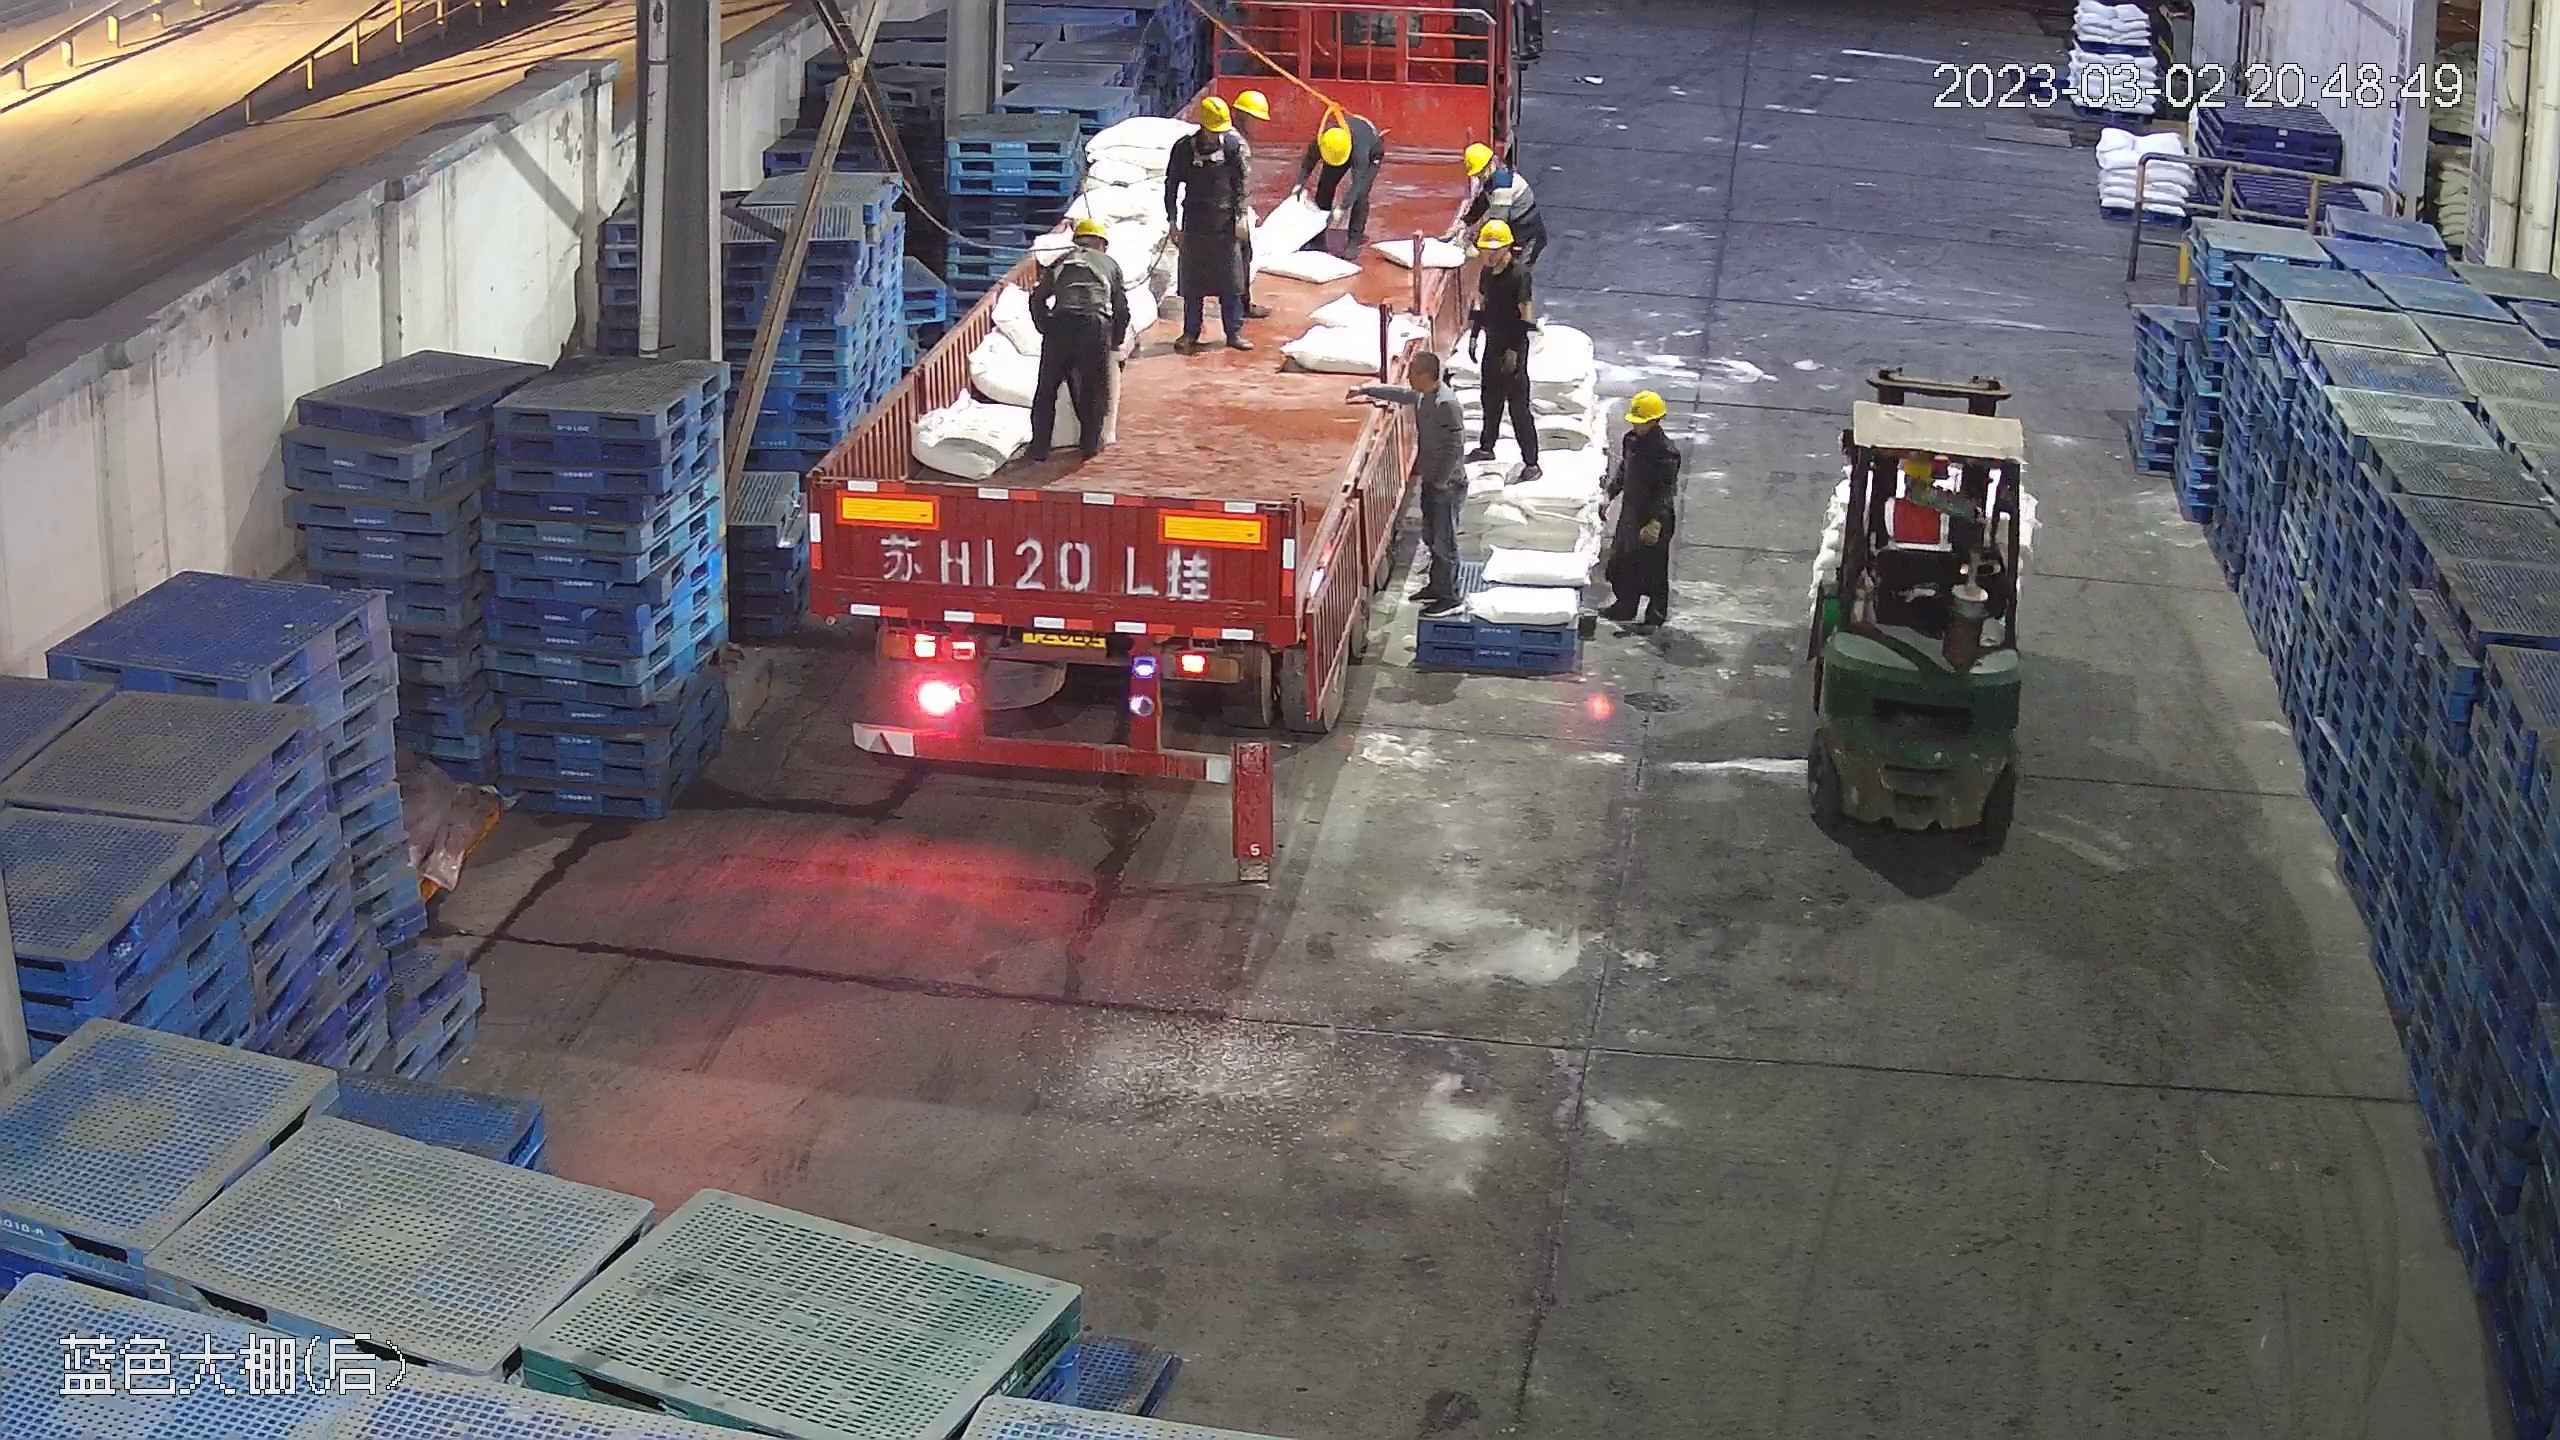belt: (1316, 95, 1385, 159), (1046, 250, 1113, 307), (1180, 129, 1237, 175)
head: (1166, 93, 1248, 179), (1038, 215, 1122, 291), (1609, 389, 1679, 479), (1464, 217, 1532, 307), (1296, 106, 1378, 178), (1459, 143, 1537, 215), (1393, 349, 1466, 418)
helmet: (1621, 389, 1666, 422), (1320, 126, 1353, 166), (1232, 89, 1272, 123), (1194, 93, 1229, 126), (1460, 143, 1494, 176), (1476, 218, 1513, 248), (1068, 214, 1108, 242), (1897, 457, 1934, 483)
people: (1018, 213, 1128, 462), (1157, 92, 1255, 355), (1595, 386, 1680, 638), (1468, 216, 1545, 482), (1399, 346, 1474, 610), (1291, 109, 1382, 259)
truck: (812, 50, 1531, 774)
